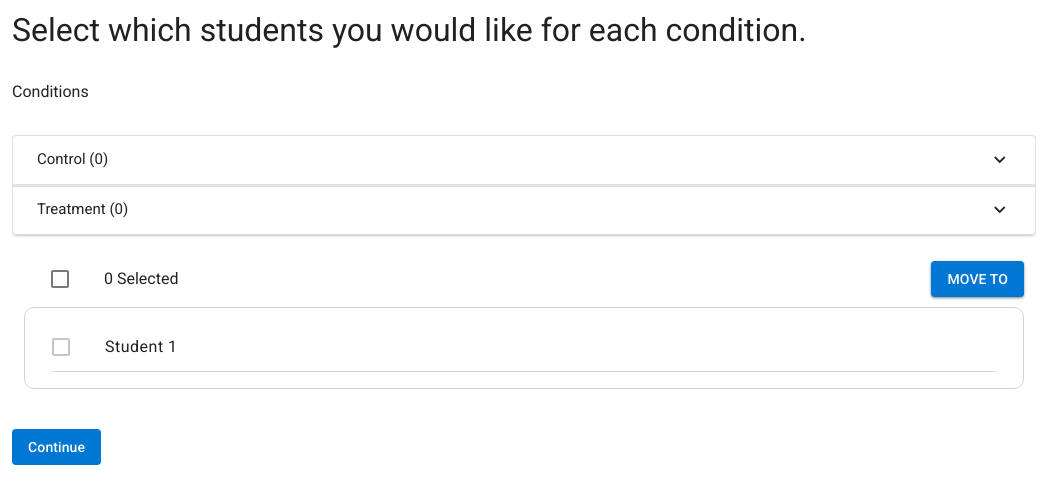
ParticipationManualDistribution › moves a participant from unassigned to a condition through ListParticipants
the unassigned list is always rendered outside the expansion panels
Click the list item "Student 1".
click(524, 348)  # box [33, 324, 1015, 372]
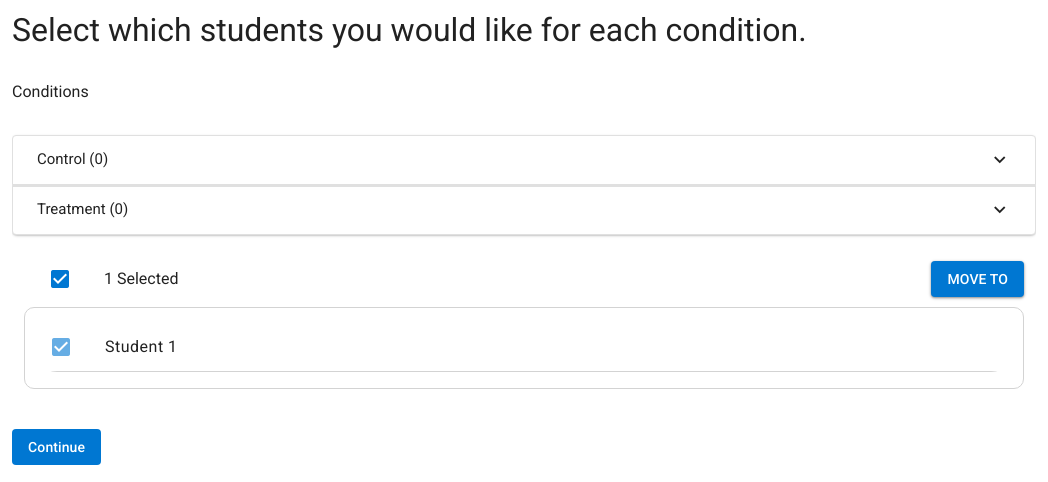
Click the button "MOVE TO".
click(978, 279)  # box [931, 261, 1024, 297]
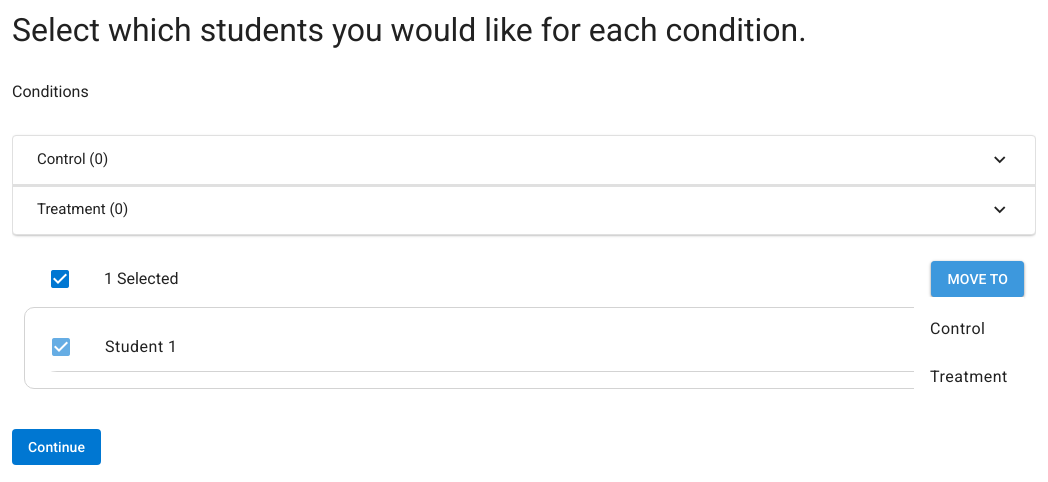
Click the text "Control".
click(958, 328)  # box [930, 319, 985, 338]
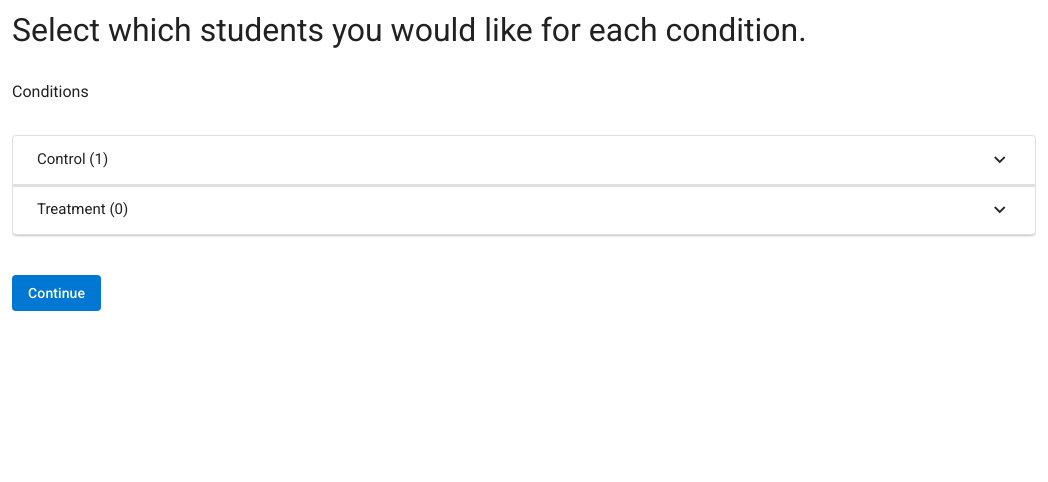
Expected: the text "Control (1)" is shown, [13, 136, 1035, 184]
